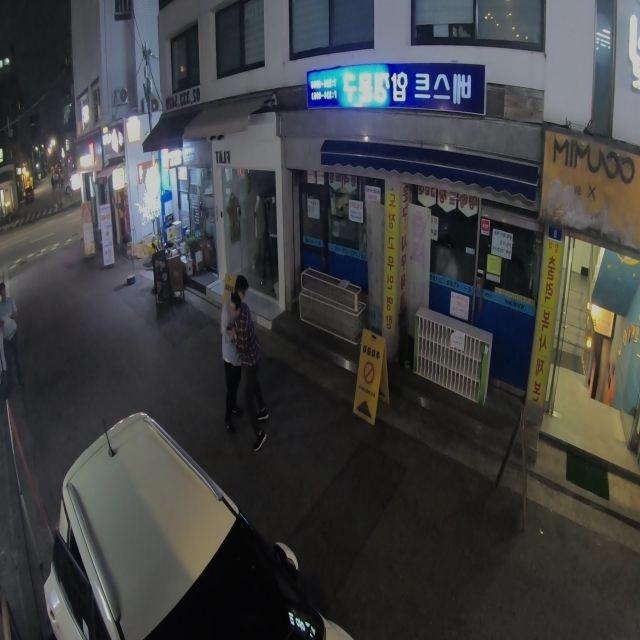fight: (218, 270, 274, 453)
non-fight: (0, 281, 23, 387)
